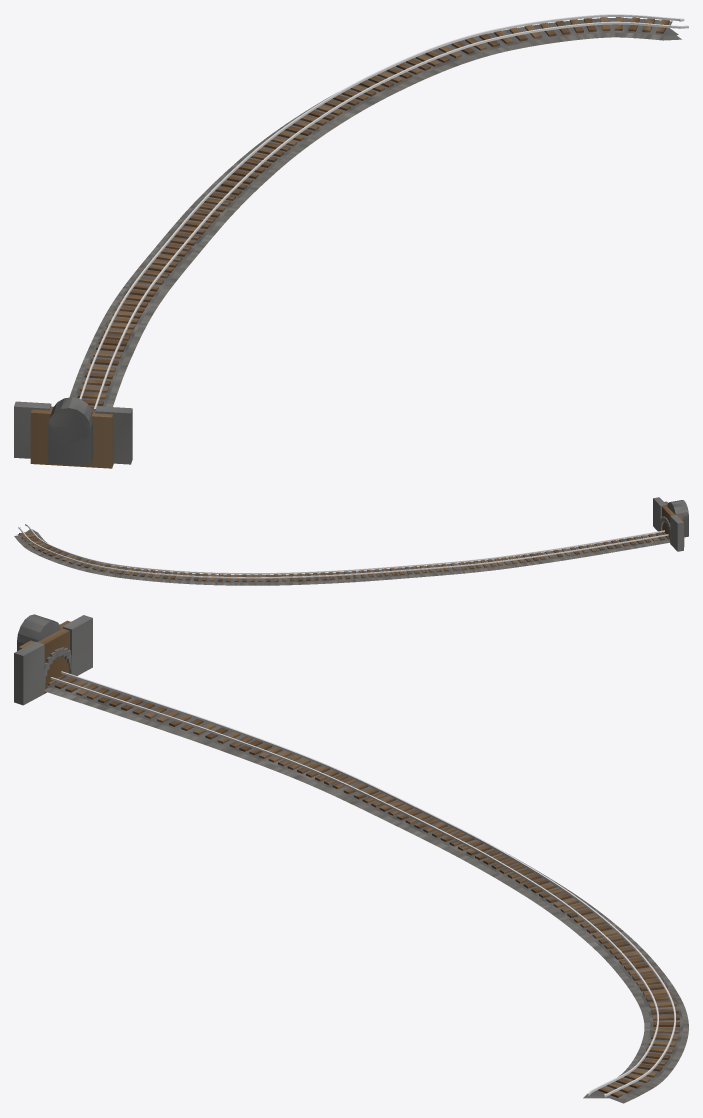
File: Rail_P1.fbx
3 views of the same model, one above another, from view 1: azimuth 30°, elevation 25°; view 2: azimuth 150°, elevation 25°; view 3: azimuth 270°, elevation 25° (orthographic). The views are drawn at different scales.
Visible parts, largest first — view 1: Rail.Sleepers, Rail.Portal, Rail.Bed, Rail.Ballast, Rail.Rail.001, Rail.Rail; view 2: Rail.Sleepers, Rail.Bed, Rail.Ballast, Rail.Rail.001, Rail.Portal, Rail.Rail; view 3: Rail.Sleepers, Rail.Bed, Rail.Ballast, Rail.Portal, Rail.Rail.001, Rail.Rail.
Boxes of the visible parts, bbox=[...] form: Rail.Sleepers: bbox=[77, 17, 669, 408]; Rail.Portal: bbox=[14, 397, 132, 468]; Rail.Bed: bbox=[75, 18, 678, 406]; Rail.Ballast: bbox=[69, 18, 681, 406]; Rail.Rail.001: bbox=[79, 14, 684, 399]; Rail.Rail: bbox=[94, 21, 688, 408]; Rail.Sleepers: bbox=[19, 531, 669, 581]; Rail.Bed: bbox=[17, 529, 669, 582]; Rail.Ballast: bbox=[14, 529, 670, 585]; Rail.Rail.001: bbox=[18, 526, 668, 578]; Rail.Portal: bbox=[653, 497, 688, 551]; Rail.Rail: bbox=[25, 524, 664, 574]; Rail.Sleepers: bbox=[48, 675, 679, 1097]; Rail.Bed: bbox=[46, 675, 682, 1099]; Rail.Ballast: bbox=[44, 676, 688, 1103]; Rail.Portal: bbox=[14, 614, 92, 705]; Rail.Rail.001: bbox=[61, 671, 675, 1097]; Rail.Rail: bbox=[50, 677, 658, 1095].
Bounding box in the file's own units: 21145 × 1410 × 13629.
